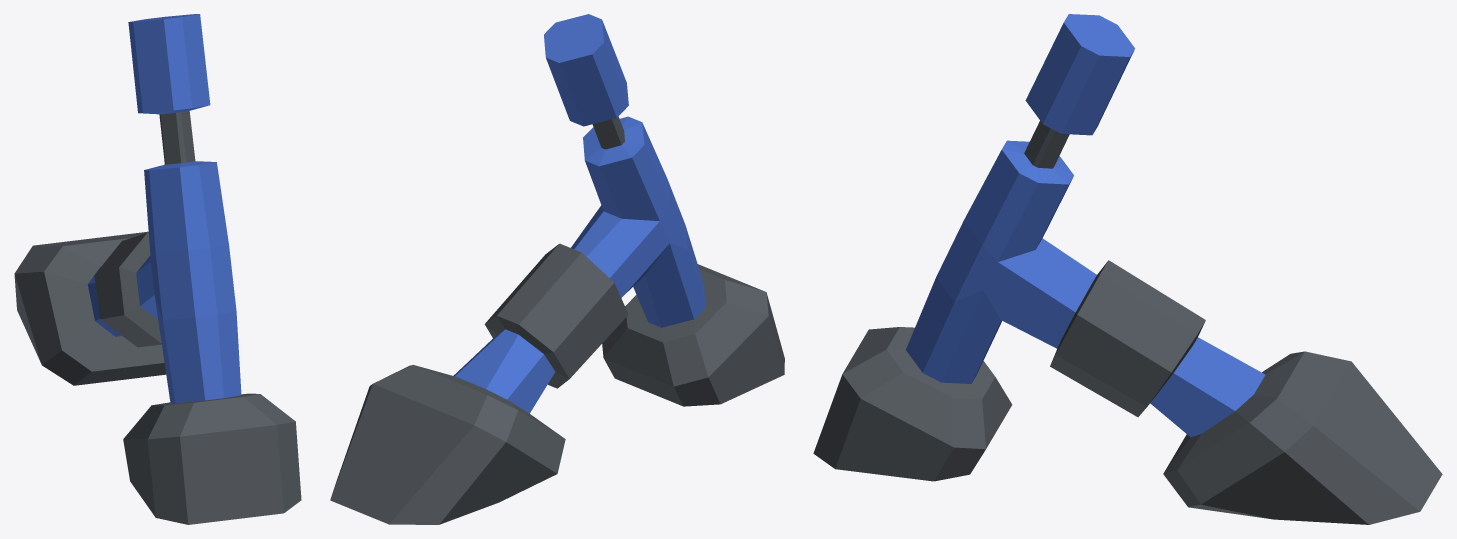
Rendered from Dropship_04_Lander_Rear_Left_Blue.fbx.
3 views of the same model, side by side, from view 1: azimuth 30°, elevation 25°; view 2: azimuth 150°, elevation 25°; view 3: azimuth 270°, elevation 25° (orthographic). The views are drawn at different scales.
Parts seen in each view (by area): view 1: Dropship_04_Lander_Rear_Left_Blue; view 2: Dropship_04_Lander_Rear_Left_Blue; view 3: Dropship_04_Lander_Rear_Left_Blue.
Part boxes in pixels (x1,y1,x2,y2): Dropship_04_Lander_Rear_Left_Blue: (14, 14, 301, 524); Dropship_04_Lander_Rear_Left_Blue: (330, 14, 784, 524); Dropship_04_Lander_Rear_Left_Blue: (813, 14, 1442, 524).
Bounding box in the file's own units: 136 × 227 × 289.
1 material, 1 textured.
